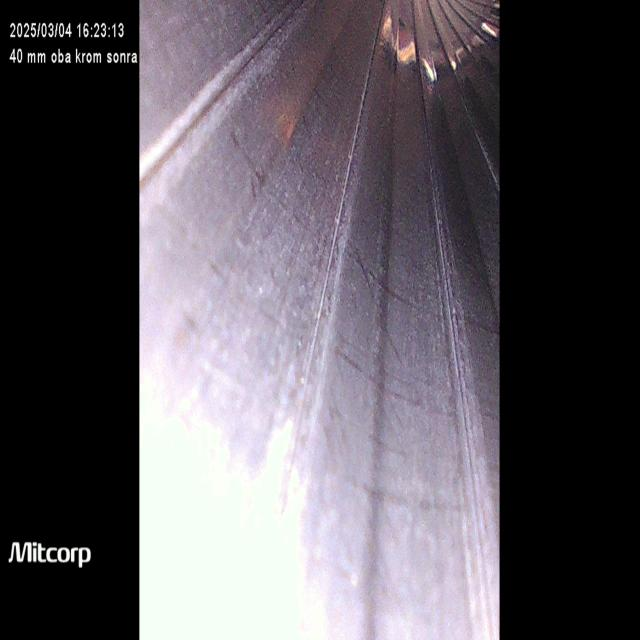hata_8.1: (158, 52, 298, 195)
